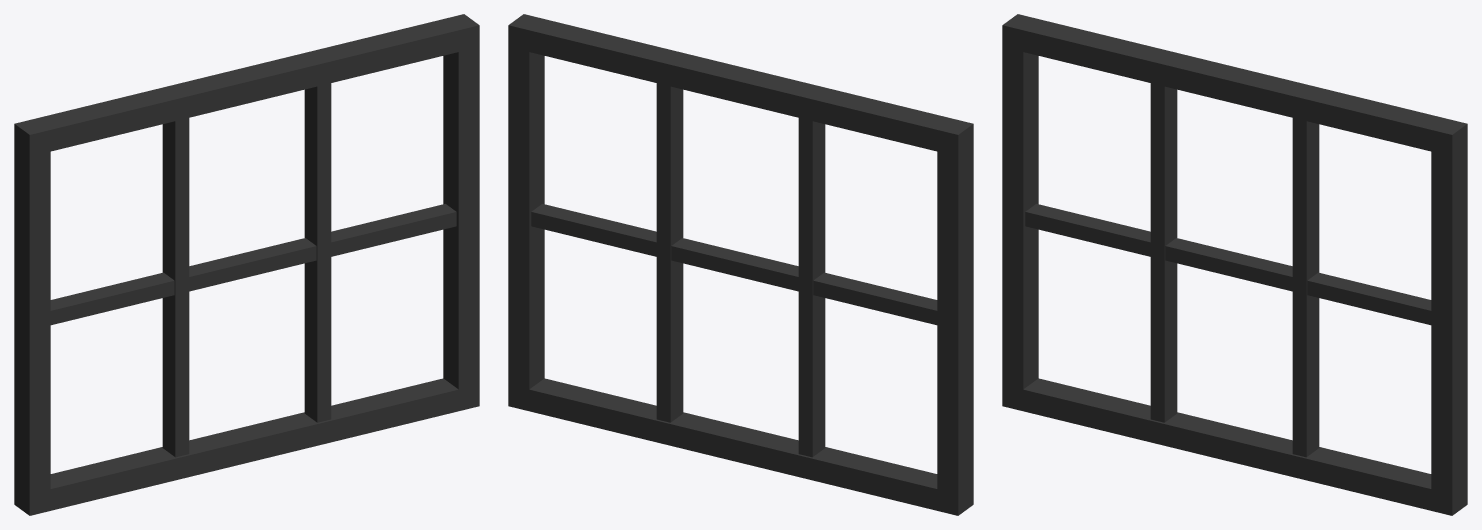
File: Window4_03_2.fbx
The picture shows the model from 3 angles, left to right: view 1: azimuth 30°, elevation 25°; view 2: azimuth 150°, elevation 25°; view 3: azimuth 330°, elevation 25°; orthographic projection.
Parts seen in each view (by area): view 1: Window4_03_2; view 2: Window4_03_2; view 3: Window4_03_2.
Part boxes in pixels (x1,y1,x2,y2): Window4_03_2: (14,14,479,515); Window4_03_2: (508,14,973,515); Window4_03_2: (1002,14,1467,515).
Bounding box in the file's own units: 97.48 × 78.91 × 5.76.
